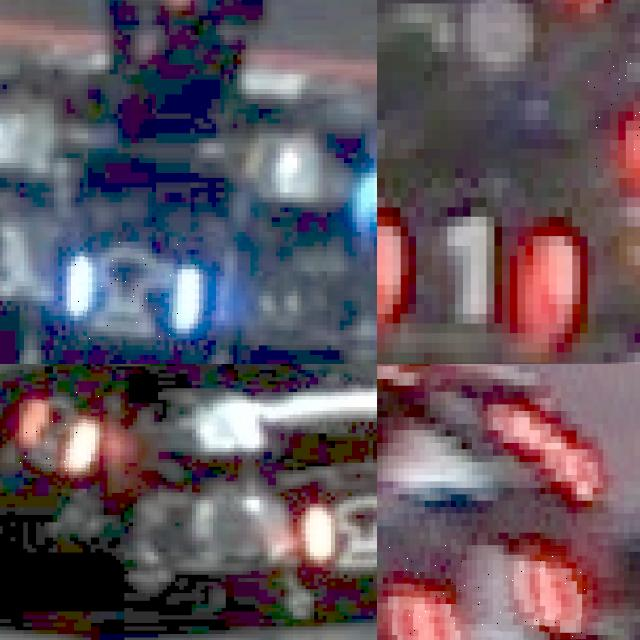Bs: (62, 242, 204, 340)
R1: (377, 192, 587, 347), (588, 32, 640, 168)
R4: (387, 545, 587, 640)
Rs: (20, 392, 100, 478), (305, 500, 377, 567)
